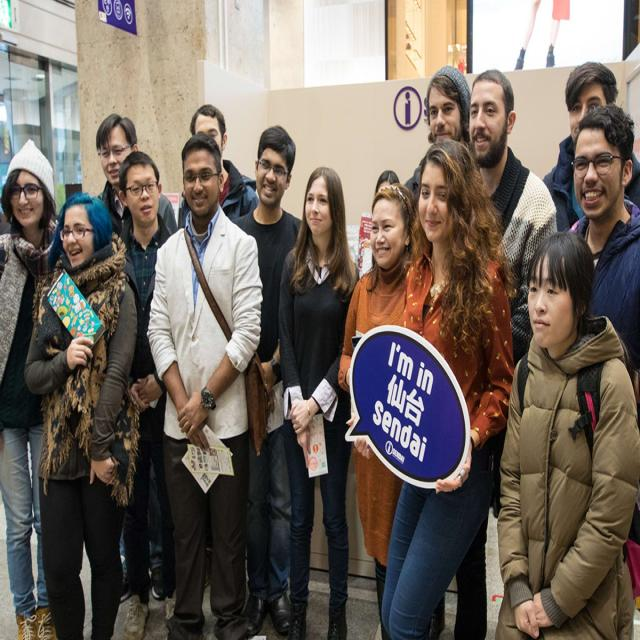body: (376, 133, 517, 639), (146, 131, 265, 640), (494, 227, 639, 639), (22, 186, 142, 640), (226, 119, 317, 639), (276, 163, 365, 639), (176, 102, 256, 590), (336, 181, 419, 640), (0, 134, 60, 640), (467, 68, 558, 372), (115, 146, 175, 604), (560, 102, 640, 370), (540, 61, 640, 236), (93, 111, 178, 247), (403, 64, 472, 202), (504, 0, 573, 73), (370, 162, 407, 196)
